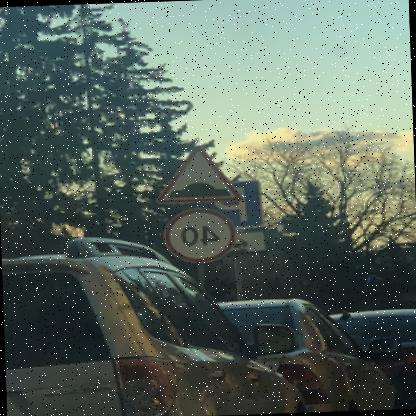speedlimit: (166, 206, 240, 263)
